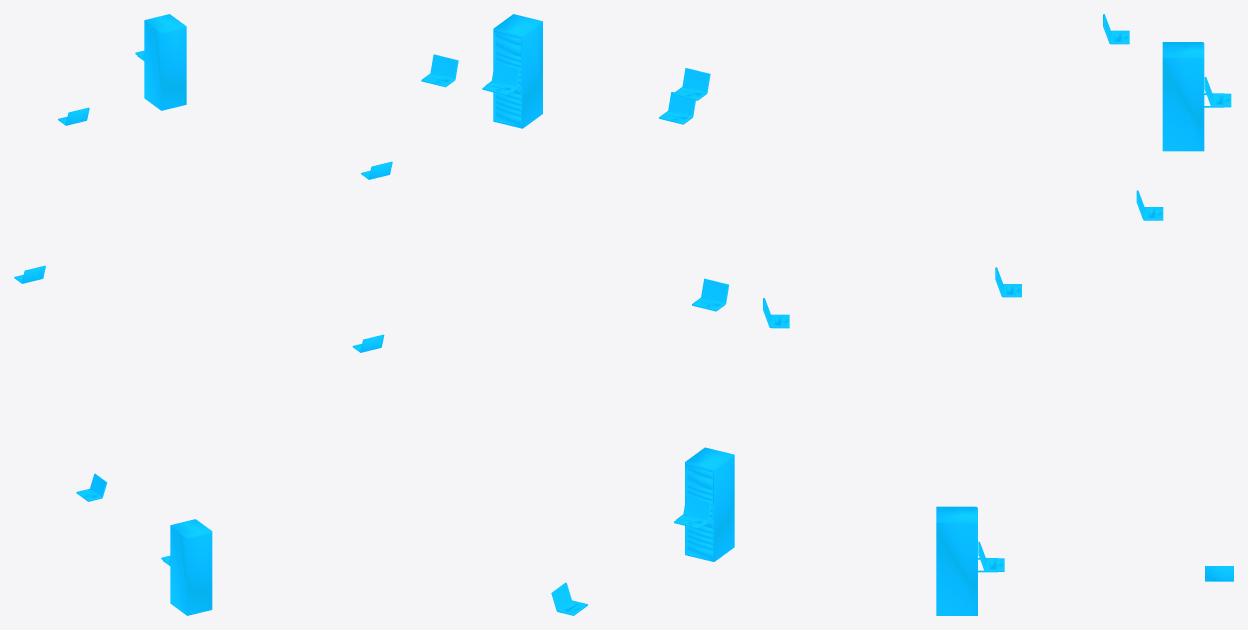
The model's file is network.gltf.
3 renders of one model, left to right at view 1: azimuth 30°, elevation 25°; view 2: azimuth 150°, elevation 25°; view 3: azimuth 270°, elevation 25°, orthographic. The views are drawn at different scales.
Visible parts, largest first — view 1: network; view 2: network; view 3: network.
Part boxes in pixels (x1,y1,x2,y2): network: (14, 14, 392, 615); network: (421, 14, 734, 615); network: (763, 14, 1233, 615).
Size of the model in its own units: 11.66 by 17.97 by 12.79.
